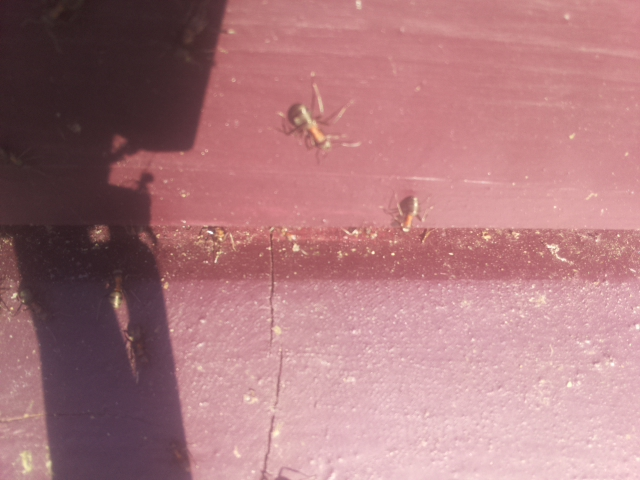ant: (279, 94, 340, 160), (5, 277, 55, 327), (118, 321, 153, 375), (396, 190, 423, 238)
